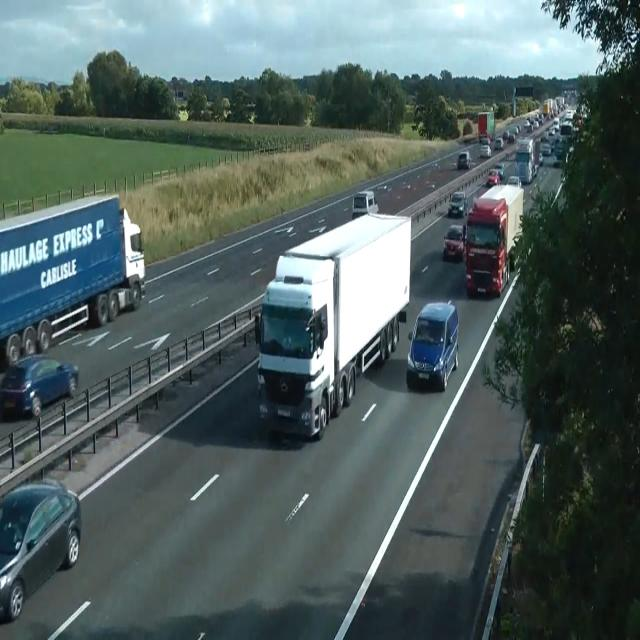bus: (0, 481, 82, 624), (0, 352, 78, 419), (407, 300, 459, 391), (351, 190, 379, 220), (443, 223, 465, 261), (448, 190, 466, 217), (457, 149, 471, 169), (486, 168, 500, 186), (507, 175, 521, 188), (479, 143, 491, 157), (540, 142, 552, 156), (495, 162, 505, 178), (494, 136, 504, 148), (503, 130, 509, 140), (539, 151, 543, 165)
minibus: (254, 211, 412, 440), (0, 193, 146, 367), (464, 183, 524, 298), (514, 137, 540, 184), (477, 111, 495, 143)
